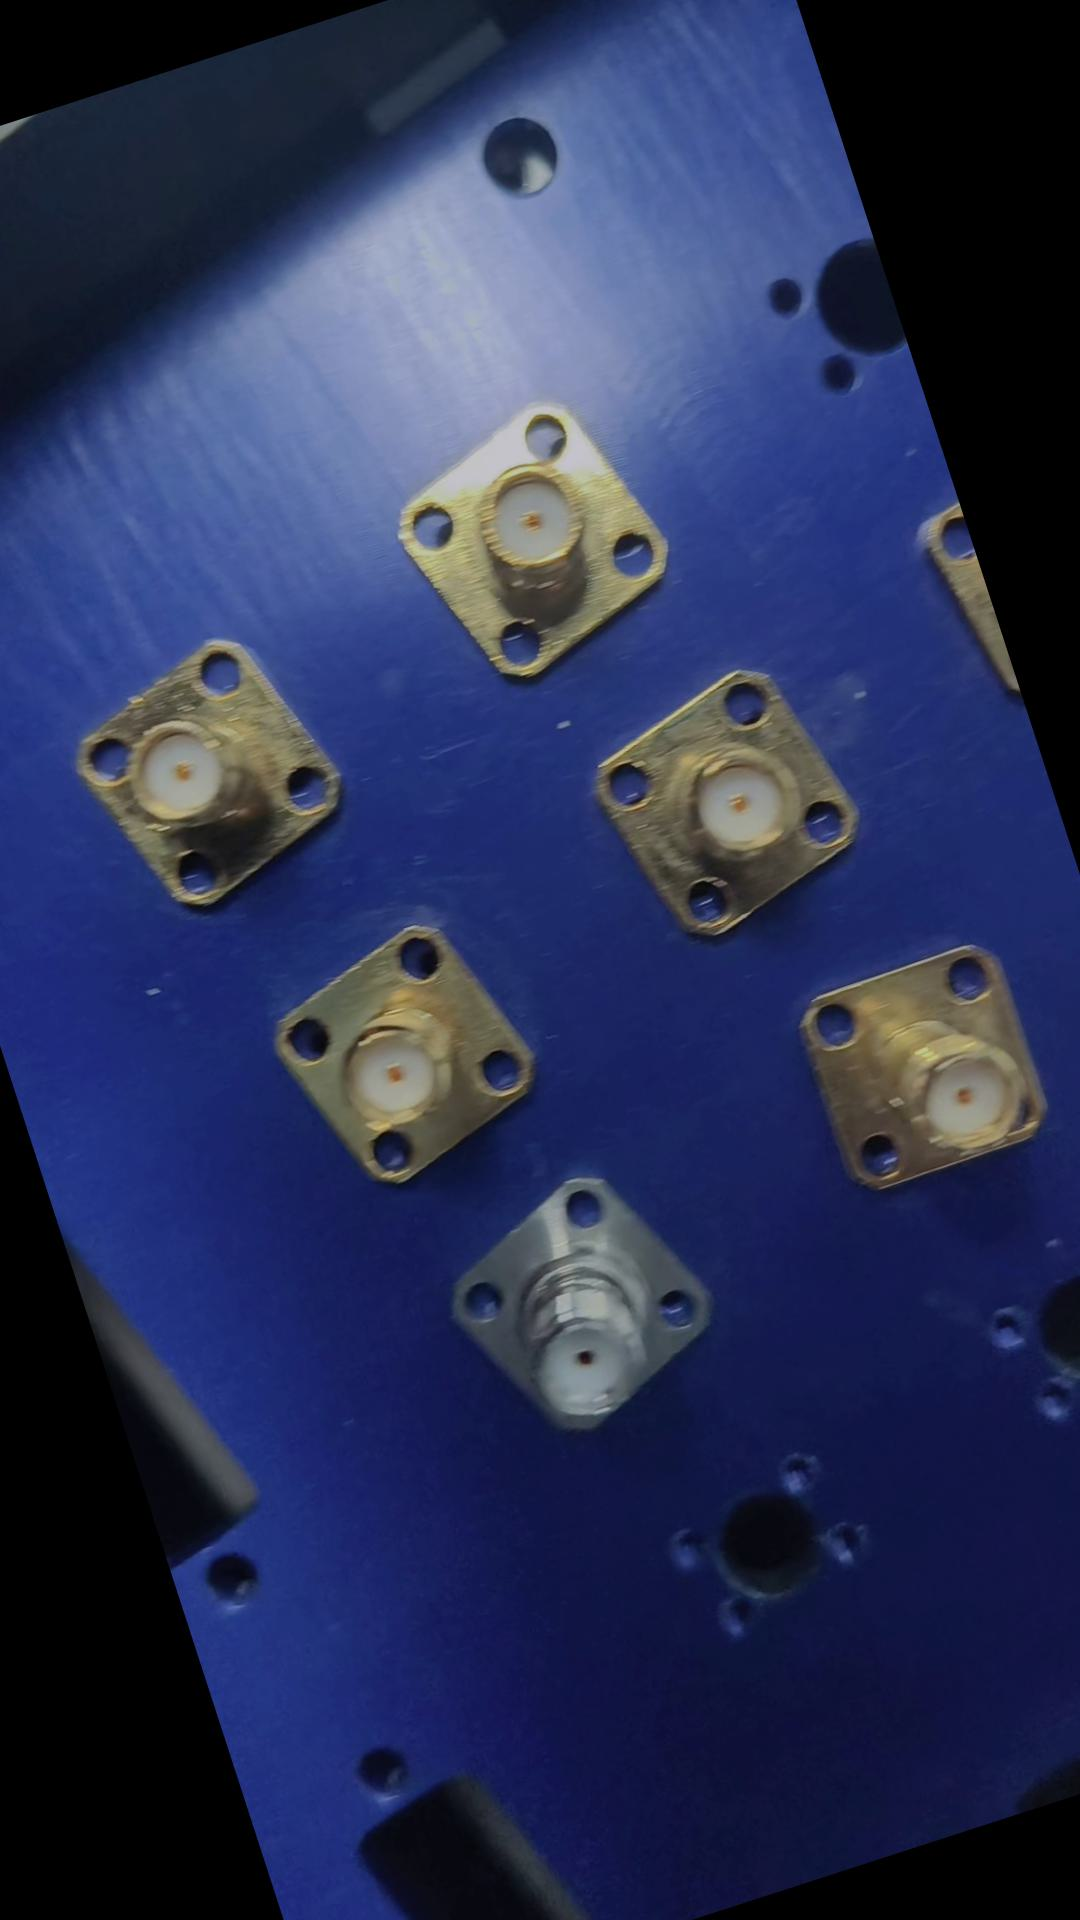SMA: (367, 373, 699, 705), (44, 611, 367, 934), (427, 1147, 746, 1465), (575, 647, 887, 963), (258, 899, 567, 1207), (787, 926, 1067, 1207)
